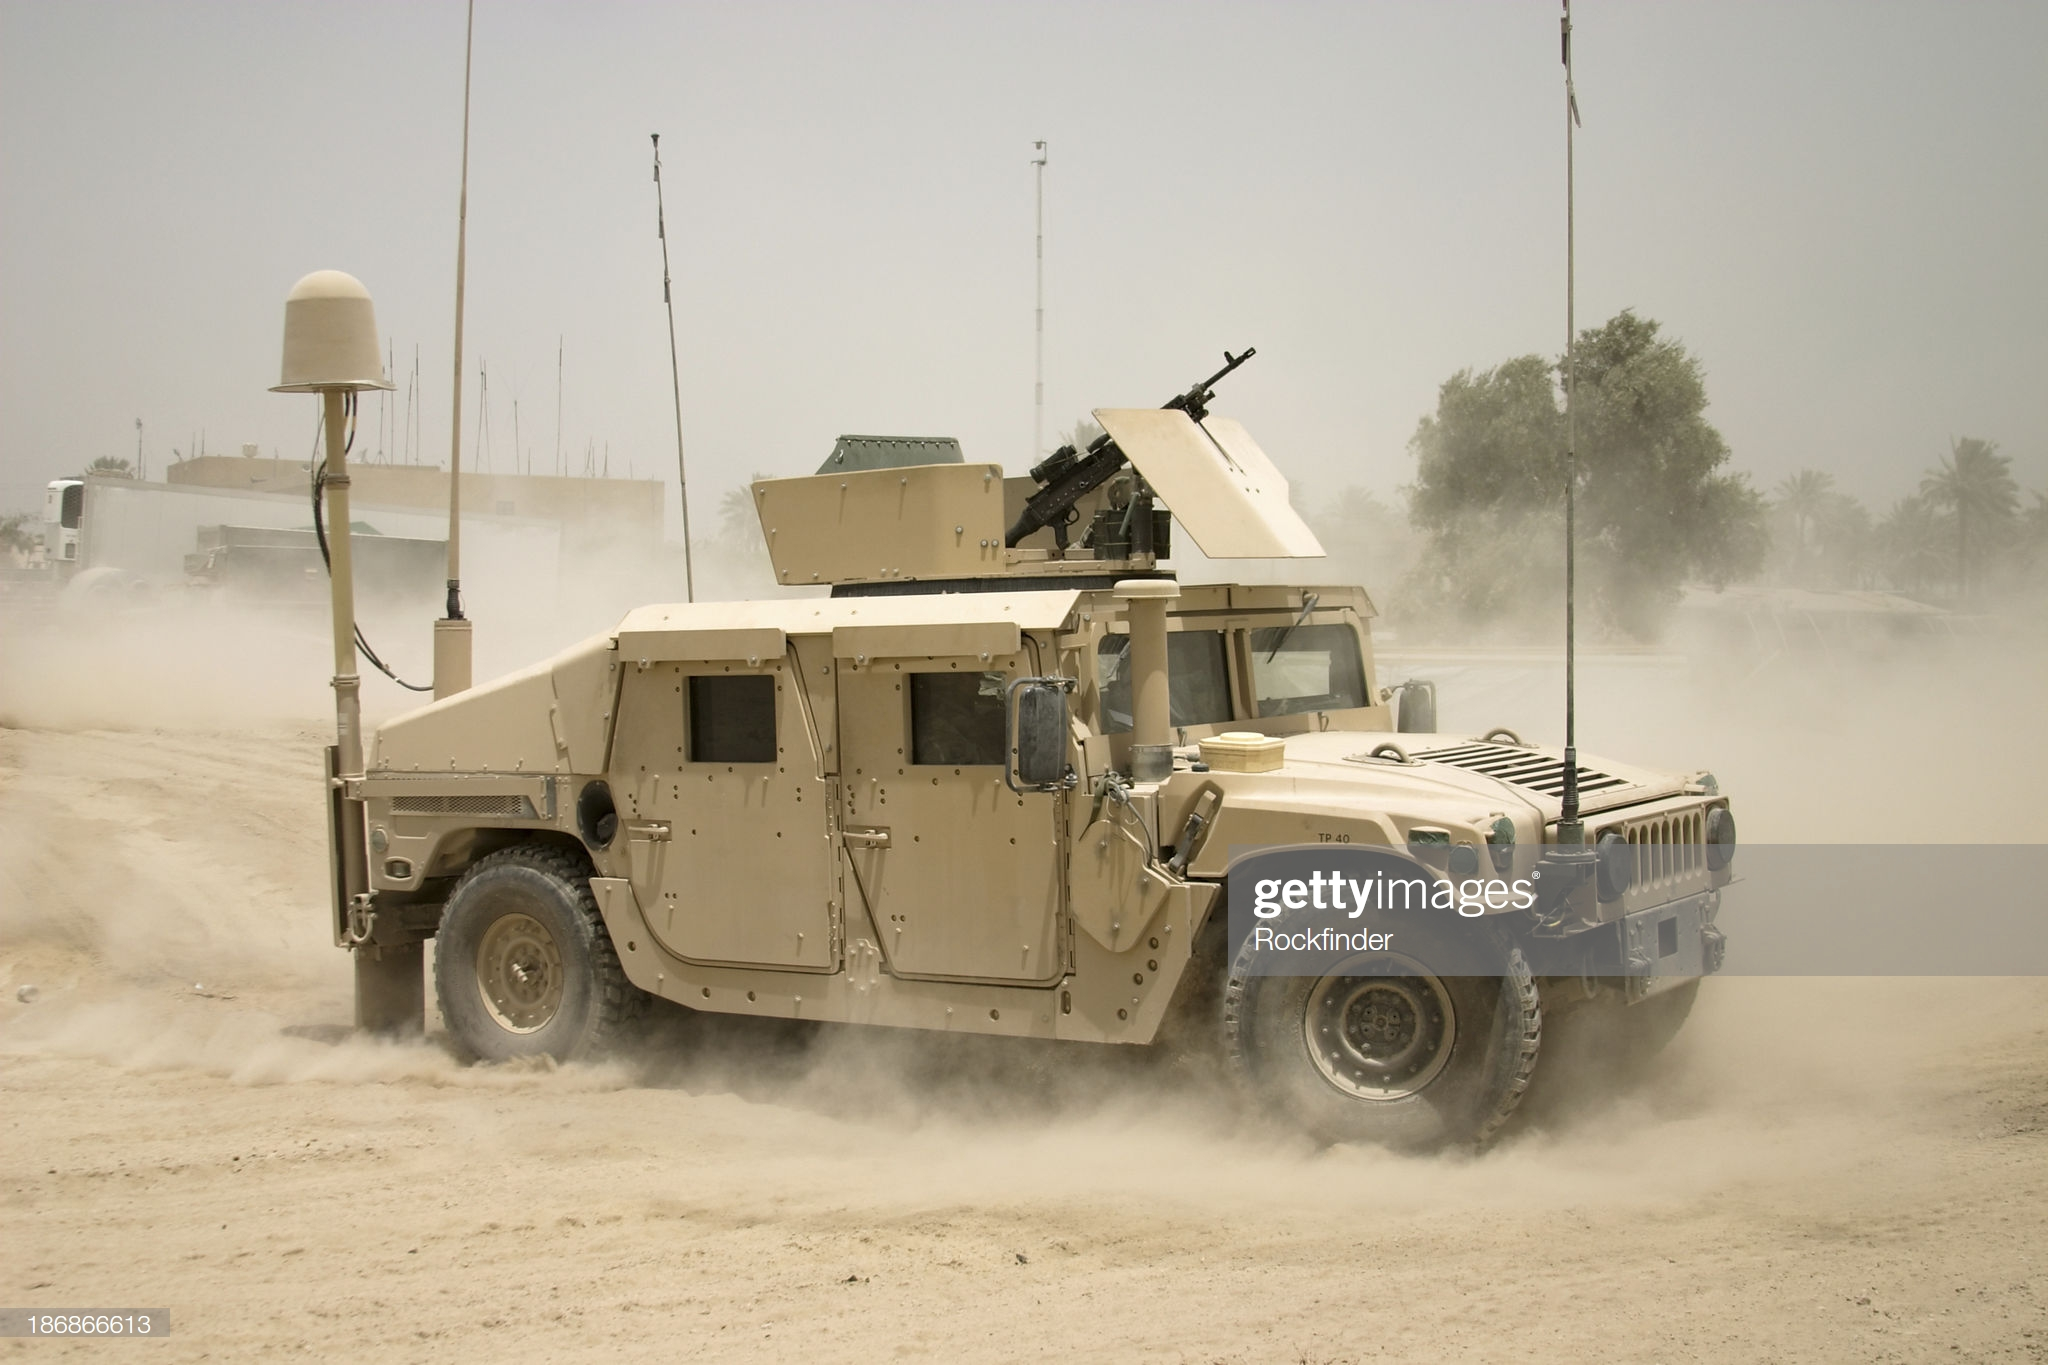hummer: (337, 582, 1715, 1132)
